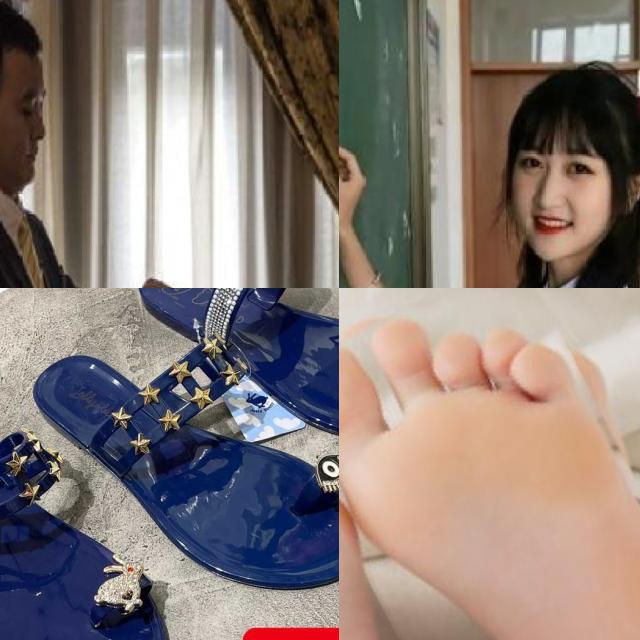Barefoots: (339, 308, 640, 640)
Sandals: (36, 328, 339, 612), (0, 370, 174, 640), (119, 288, 339, 447)
face_nomask: (497, 144, 622, 258), (0, 59, 59, 191)
hand_noglove: (339, 140, 366, 240), (127, 273, 181, 288)
head_nohelmet: (494, 65, 640, 149), (0, 0, 56, 73)
person: (339, 62, 640, 288), (0, 0, 202, 288)
